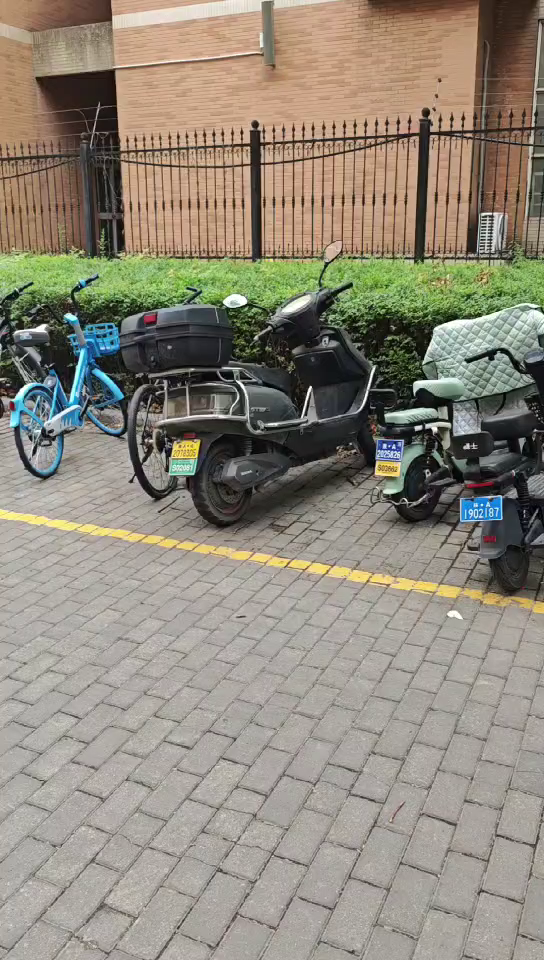others: (131, 292, 363, 512), (433, 311, 544, 607), (382, 315, 499, 546)
shared_bike_haluo: (13, 280, 123, 474)
